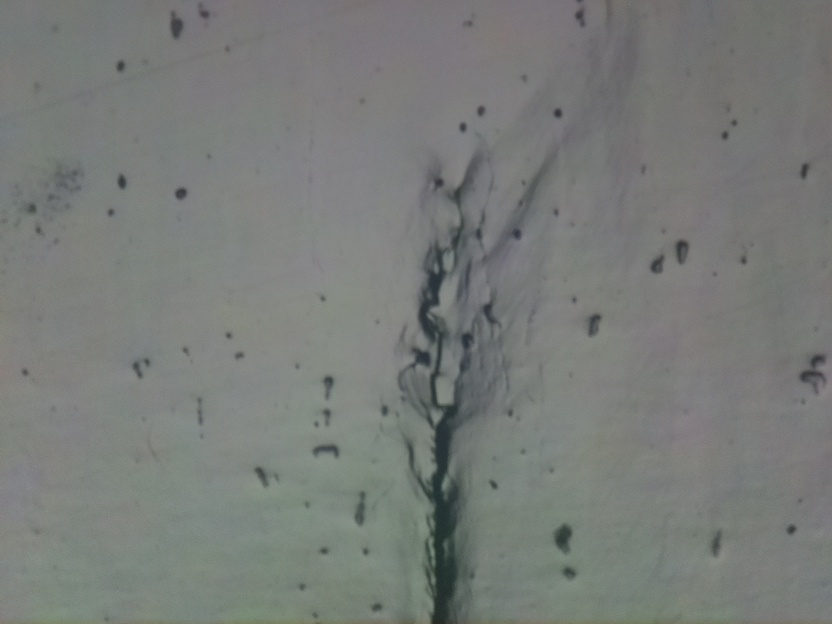crack: (409, 165, 489, 624)
